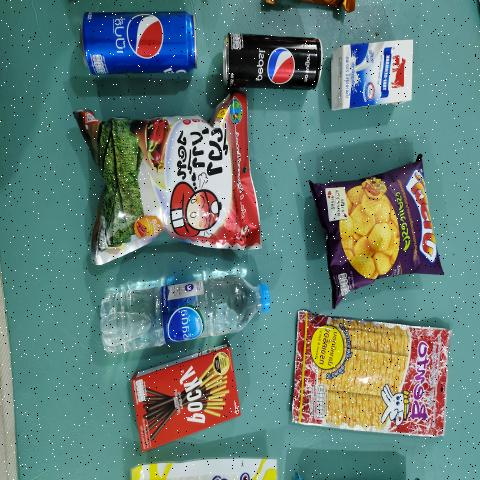bento_red: (291, 327, 450, 420)
crystal: (90, 270, 274, 357)
party_purple: (331, 160, 439, 300)
pepsi_black: (222, 36, 322, 82)
pepsi_blue: (80, 17, 198, 80)
pokki: (125, 348, 238, 447)
taokaenoi: (93, 108, 237, 248)
thai_denmark: (330, 36, 418, 109)
